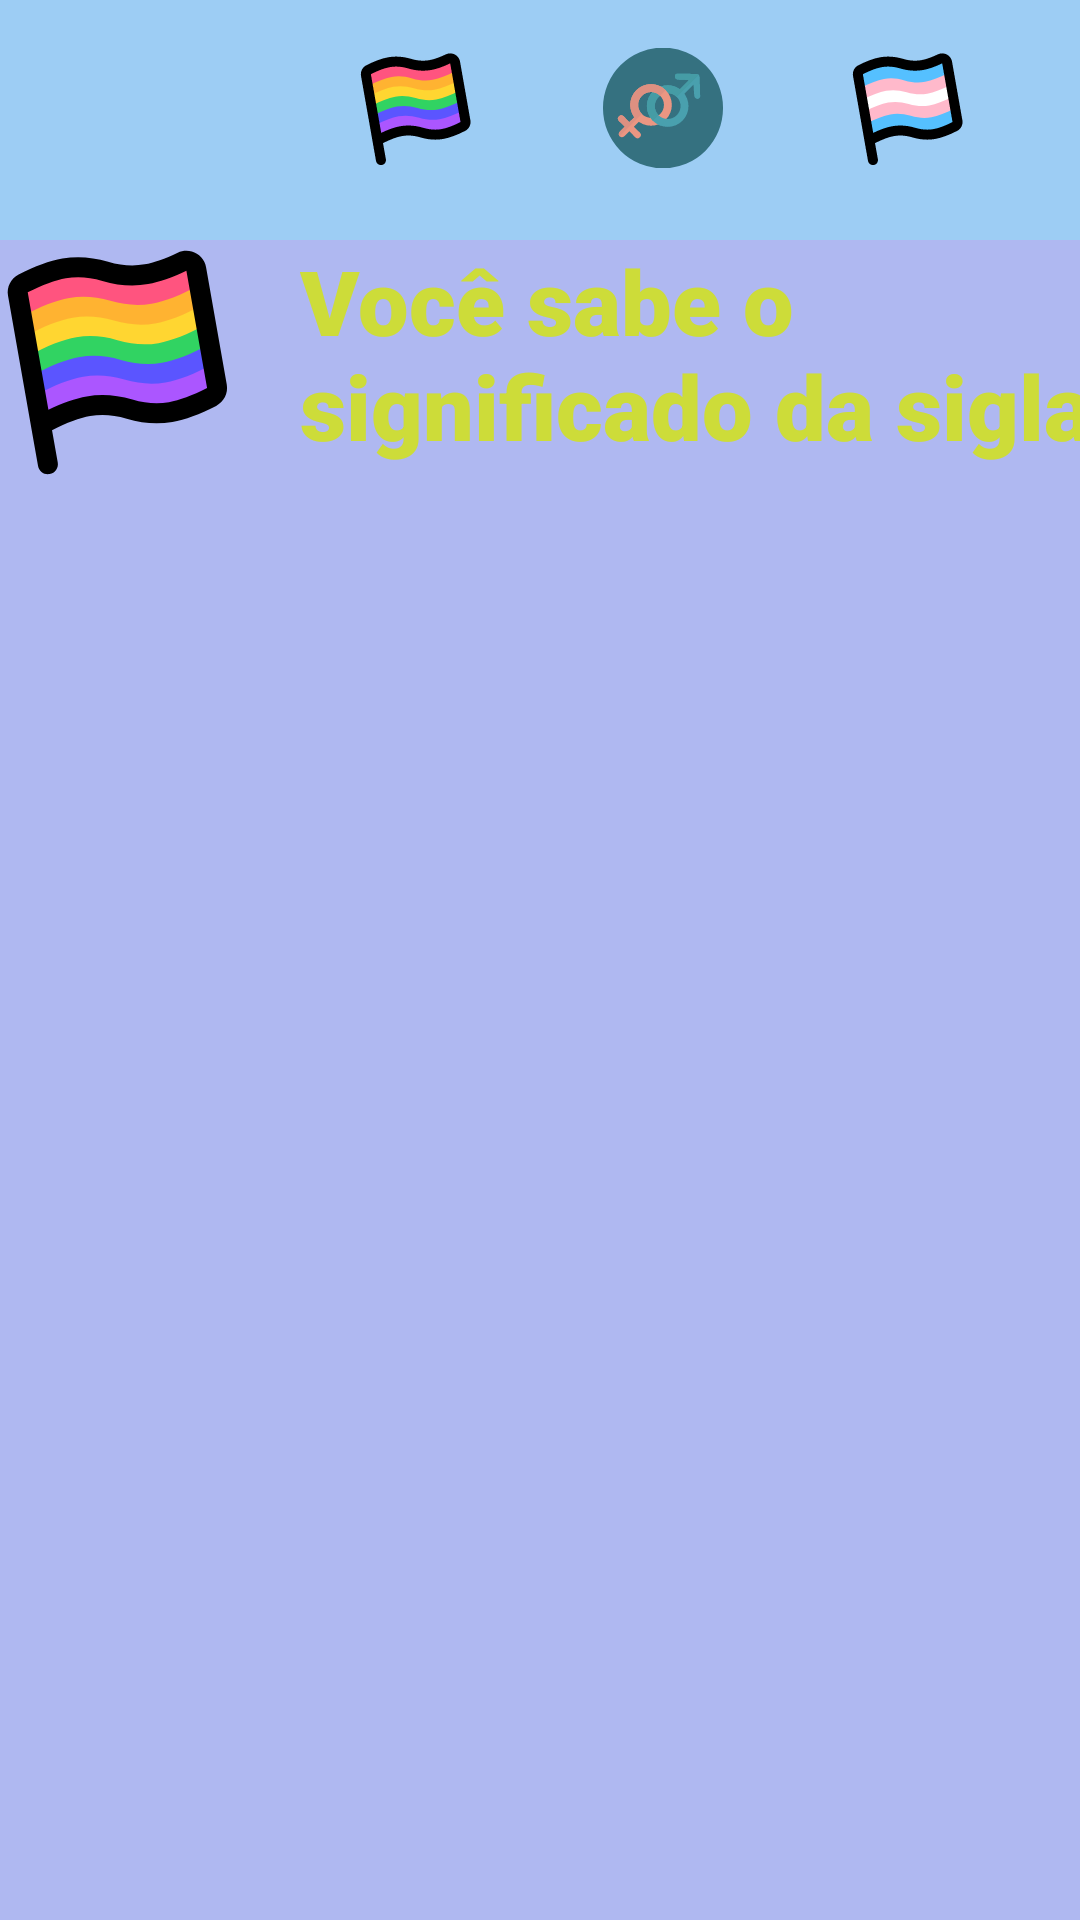

Where to tap for icons on this 1080*1920 app screen, as point (x, y):
flagtrans: point (907, 109)
genders: point (663, 108)
lgbtflag: point (415, 109), point (117, 362)
